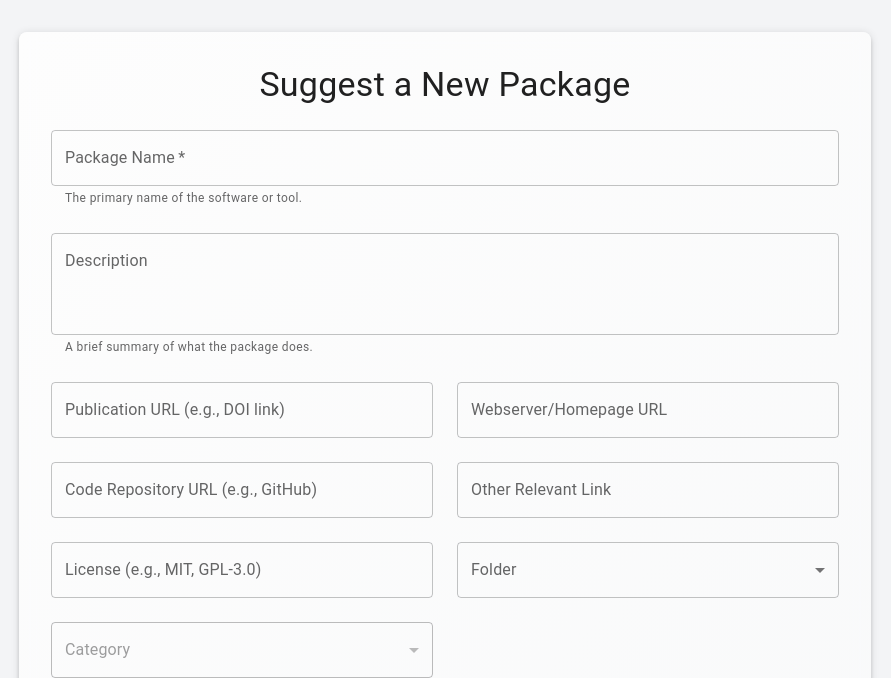
Test: SuggestPackagePage — error handling › shows error message when supabase insert fails
The image size is (891, 678).
Type "FailTool" into the field labelled "Package Name *".
click(445, 158); type("FailTool")  # box [51,130,839,186]
(page scrolled)
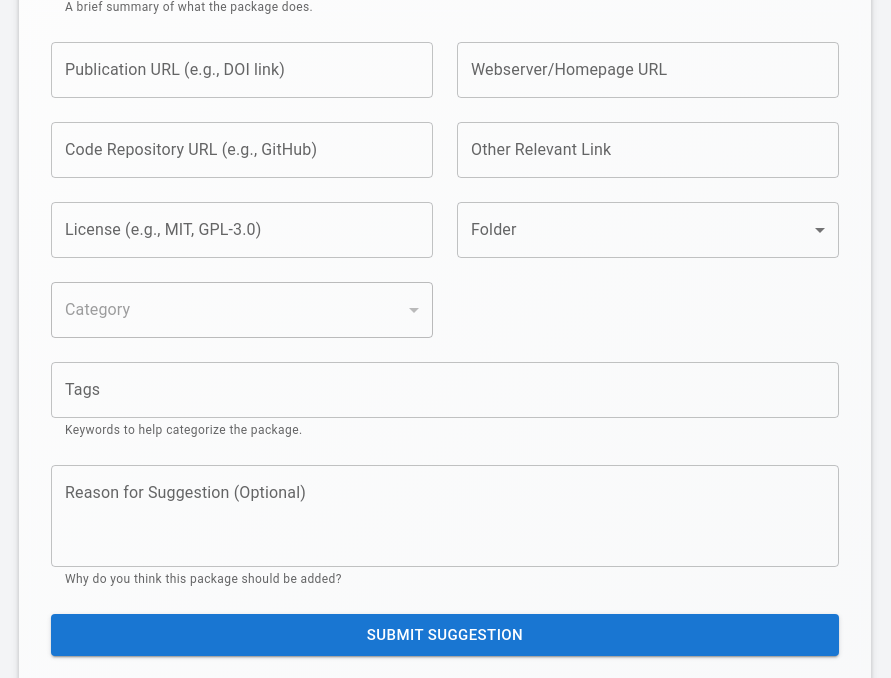
Click the button "Submit Suggestion".
click(445, 635)  # box [51,614,839,656]
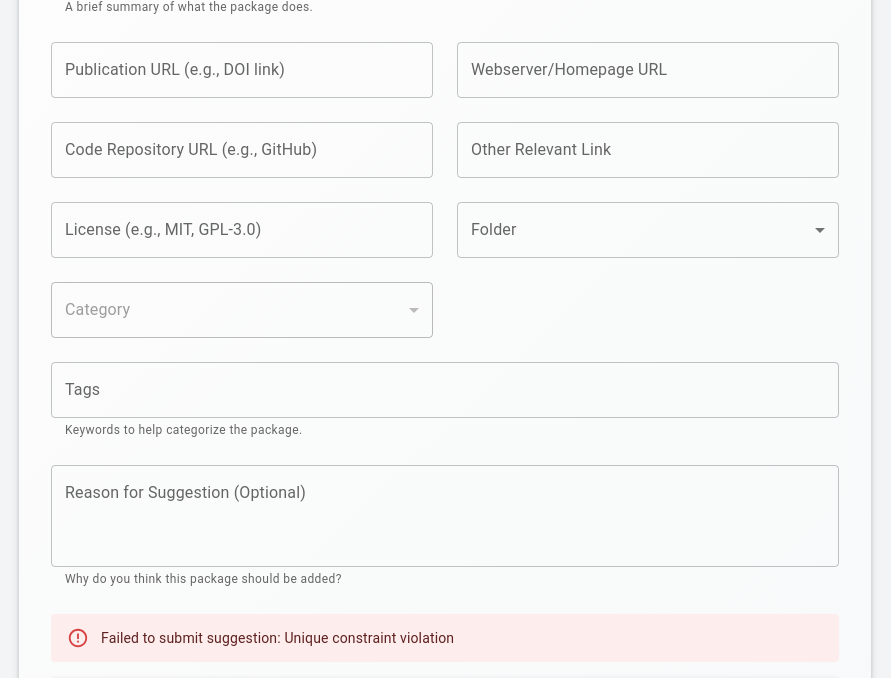
Expected: the text "Failed to submit suggestion: Unique constraint violation" is shown, [101,630,454,646]
